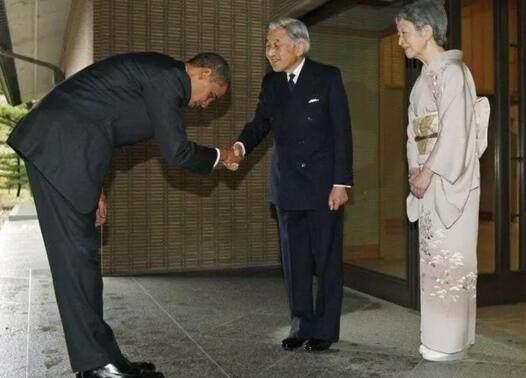bending: (21, 51, 230, 374)
up: (245, 17, 368, 349), (385, 3, 496, 365)
